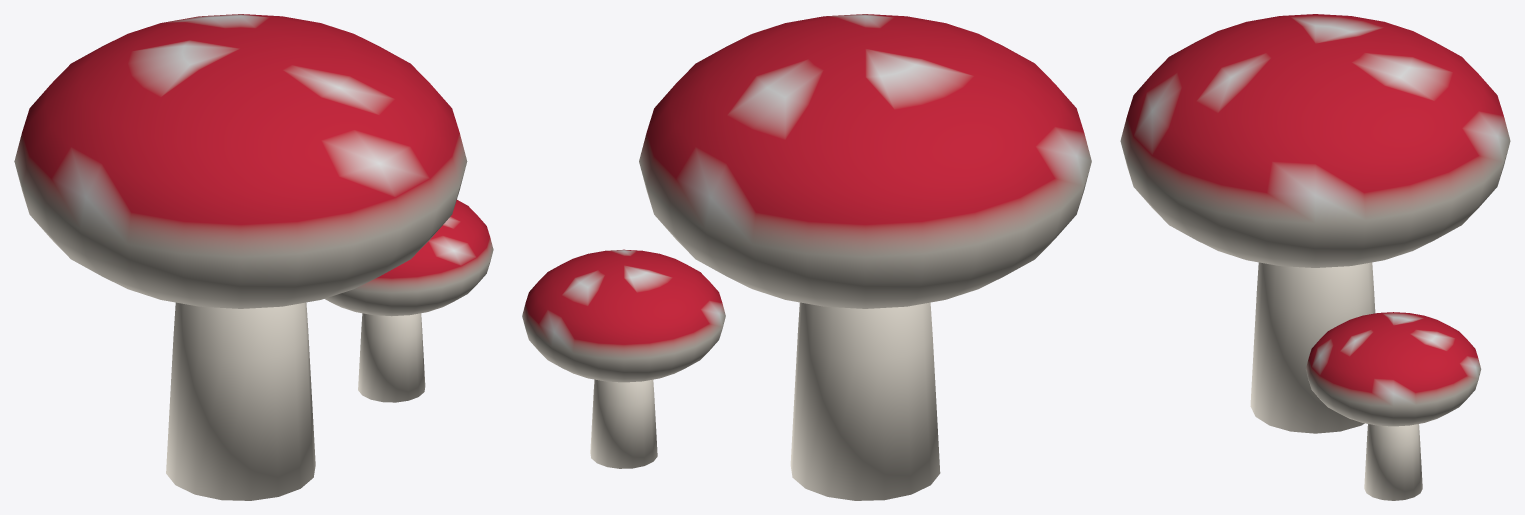
Rendered from fliegenpilz.glb.
The picture shows the model from 3 angles, left to right: view 1: azimuth 30°, elevation 25°; view 2: azimuth 150°, elevation 25°; view 3: azimuth 270°, elevation 25°; orthographic projection. The views are drawn at different scales.
Visible parts, largest first — view 1: fliegenpilz-lack, fliegenpilz-matt; view 2: fliegenpilz-lack, fliegenpilz-matt; view 3: fliegenpilz-lack, fliegenpilz-matt.
Boxes of the visible parts, bbox=[...] form: fliegenpilz-lack: bbox=[14, 14, 493, 316]; fliegenpilz-matt: bbox=[166, 302, 425, 500]; fliegenpilz-lack: bbox=[522, 14, 1091, 382]; fliegenpilz-matt: bbox=[590, 302, 940, 500]; fliegenpilz-lack: bbox=[1120, 14, 1510, 426]; fliegenpilz-matt: bbox=[1250, 262, 1422, 500].
Size of the model in its own units: 0.735 by 0.615 by 0.6.
